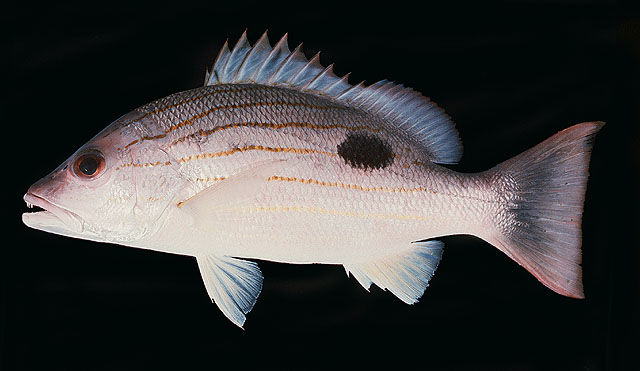fish: (21, 30, 607, 332)
